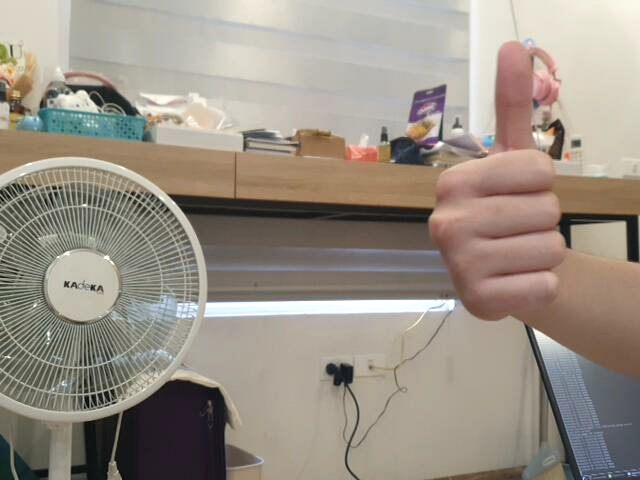ThumbsUp: (426, 39, 570, 328)
